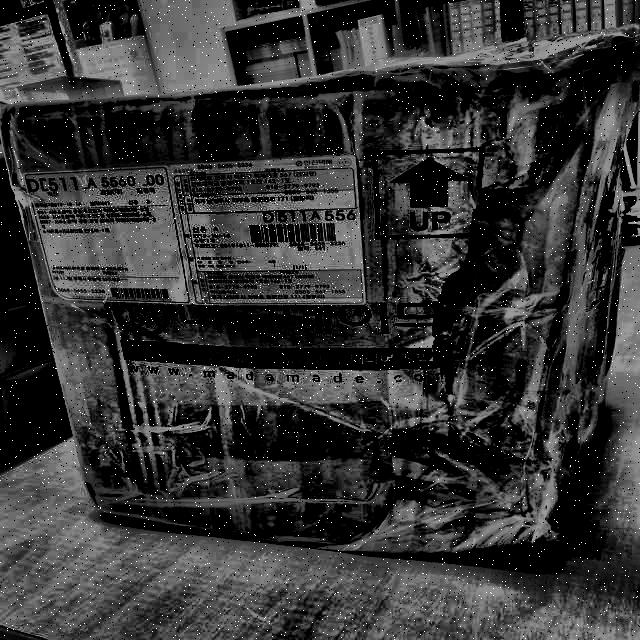box: (0, 12, 639, 579)
hole: (442, 126, 578, 460)
